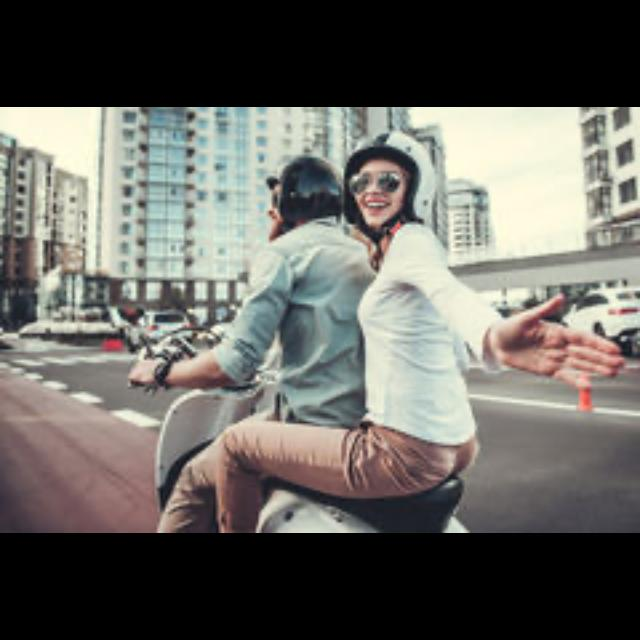With Helmet: (338, 131, 438, 227), (254, 150, 338, 234)
